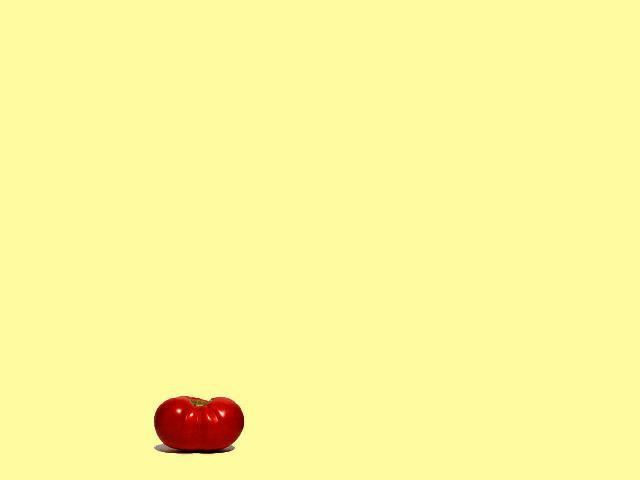tomato: (154, 396, 244, 451)
